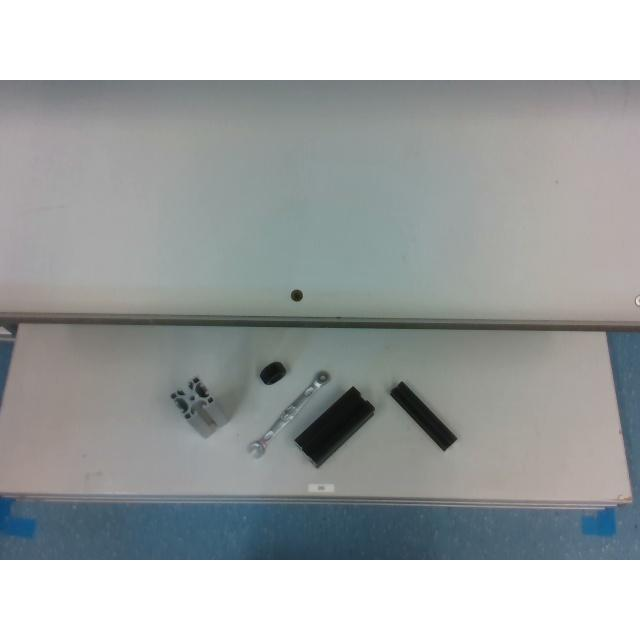F20_20_B: (389, 382, 457, 451)
M20: (258, 361, 286, 384)
S40_40_B: (294, 386, 374, 466)
S40_40_G: (170, 376, 232, 438)
Wrench: (247, 370, 329, 458)
